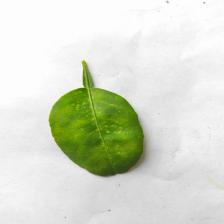healthy: (46, 57, 145, 180)
